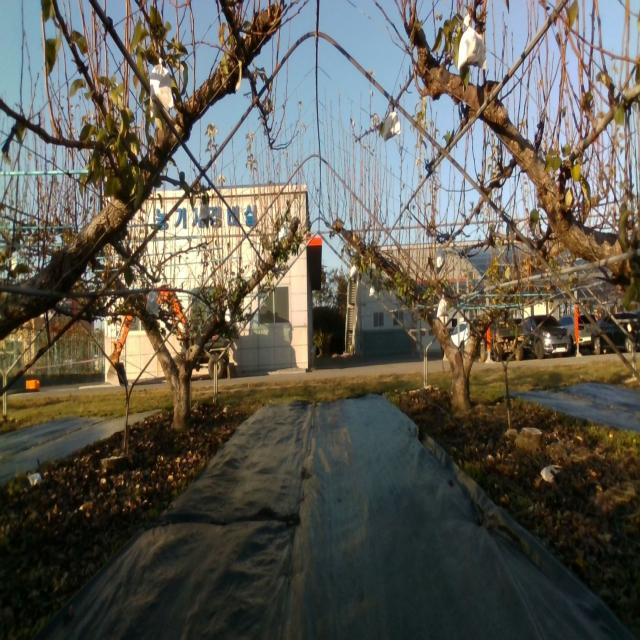pearbags: (458, 14, 487, 71), (150, 58, 175, 114), (384, 105, 400, 142), (198, 201, 210, 230), (435, 244, 446, 275), (146, 292, 159, 318), (436, 294, 449, 318)
